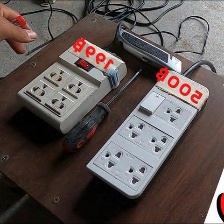three_eye_plug: (82, 65, 214, 206), (13, 36, 131, 138)
